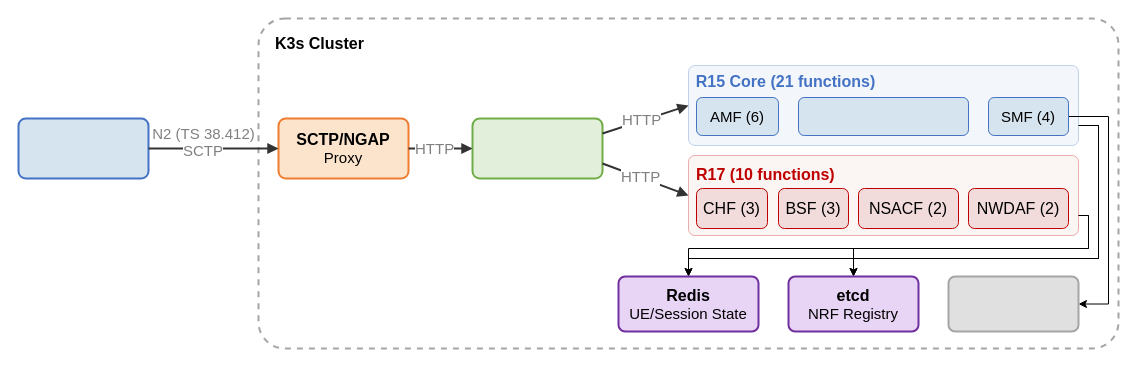
This 1136x366 diagram has some shape labels left out. The shapes that lost their labels are listed below. From the top down, each one's centre as x and y in pixels, then its label:
(883,116): NRF, UDM, UDR, AUSF, PCF, NSSF (11)
(83,148): UERANSIM gNB + UE
(537,148): Knative Serving
(1013,303): UPF Data Plane
